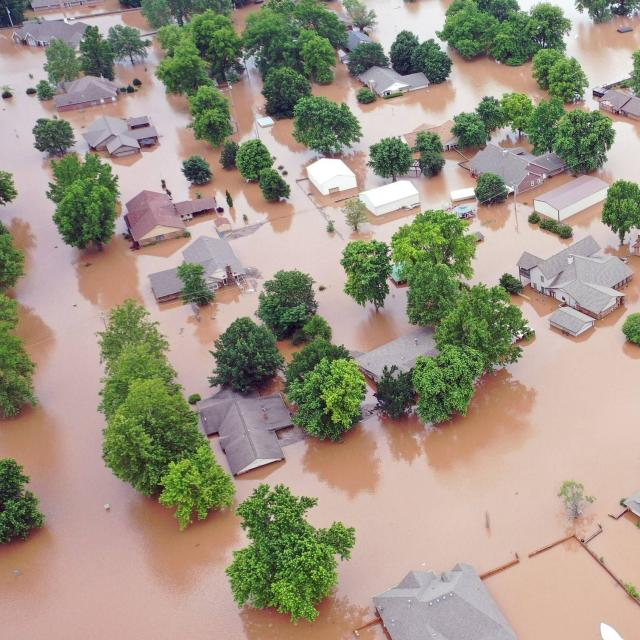flooded_areas: (21, 25, 640, 625)
